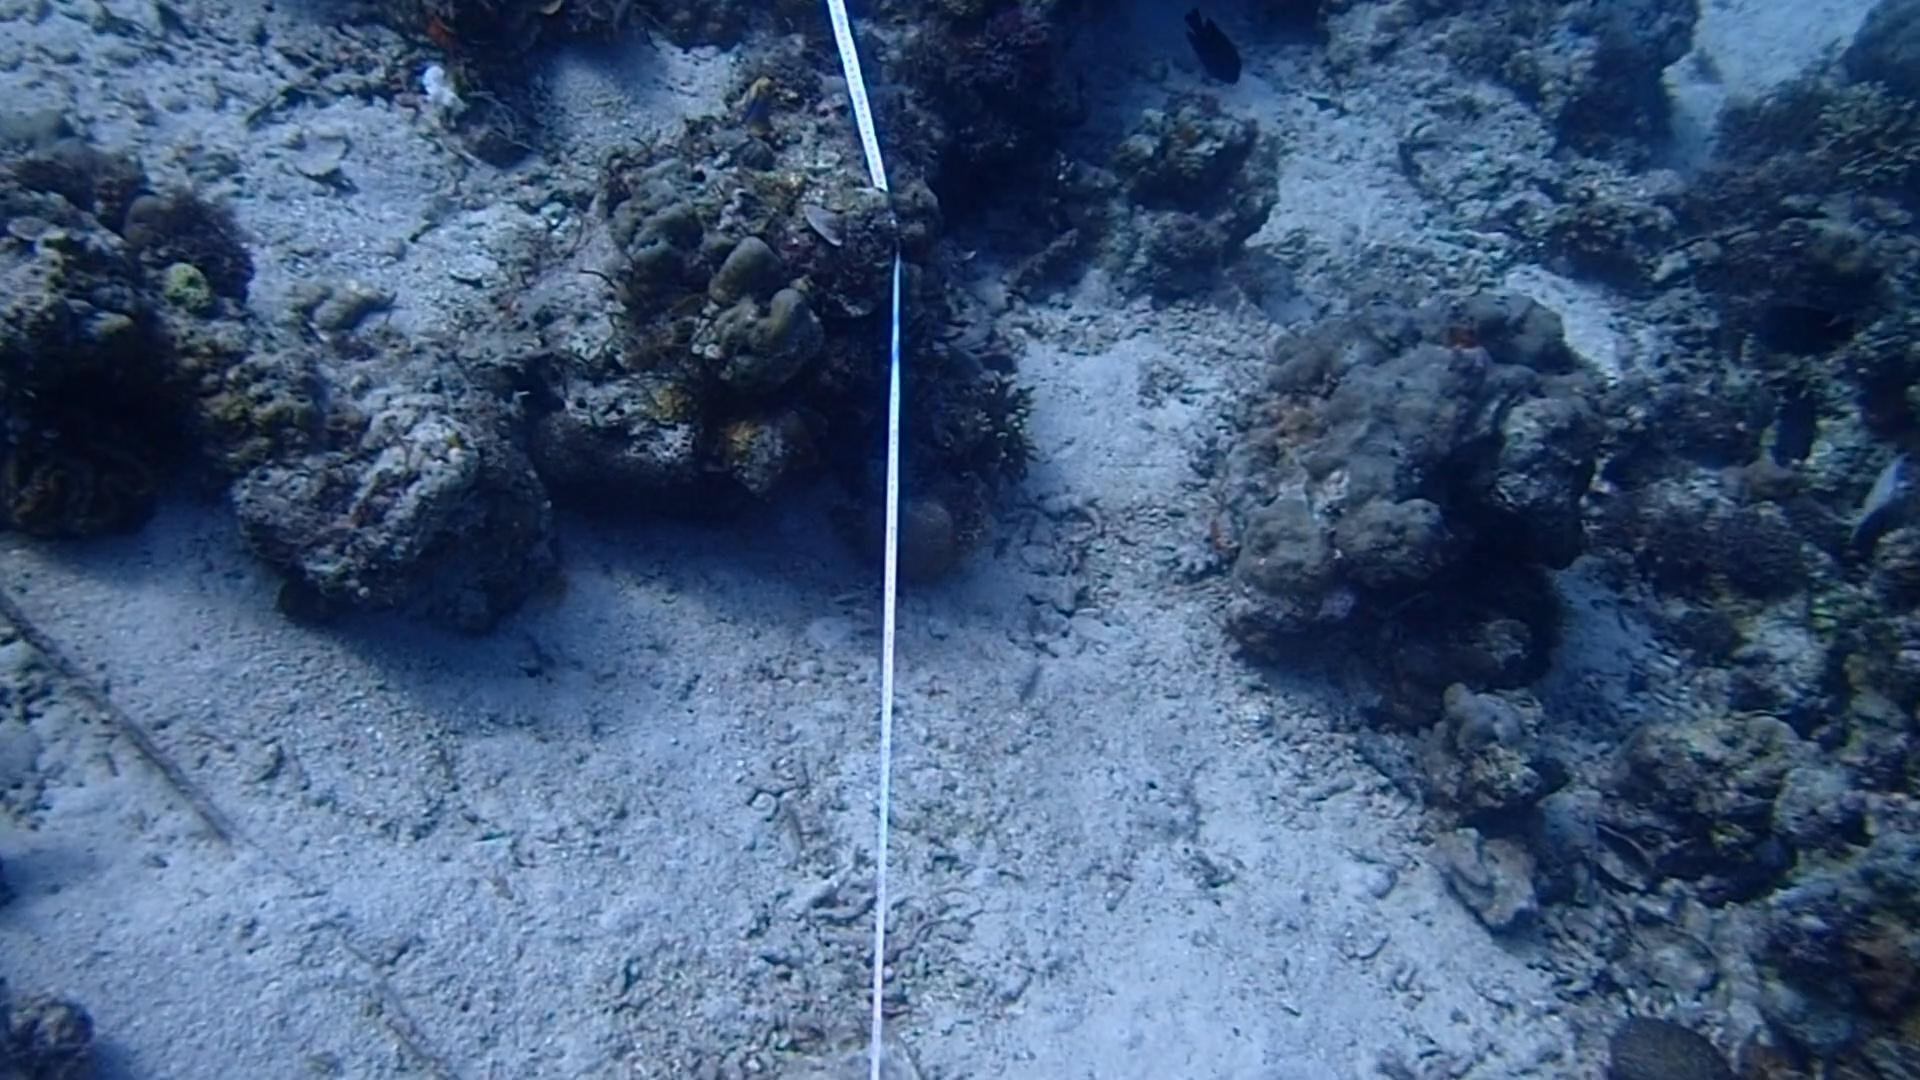Dark Fish: (1741, 294, 1863, 367), (1176, 0, 1257, 94), (1775, 371, 1821, 469)
